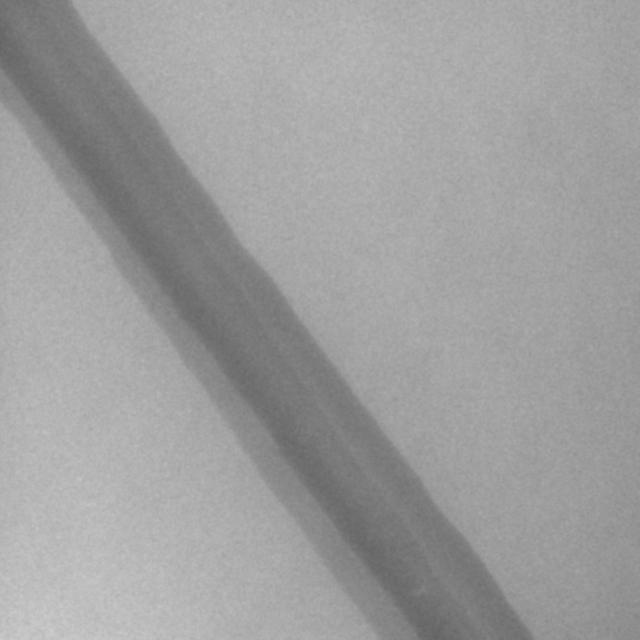air hole: (413, 587, 426, 598)
